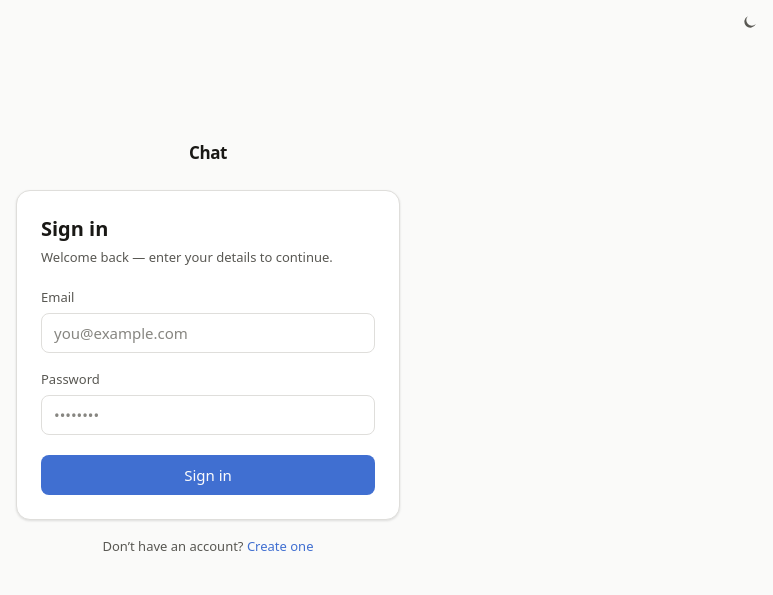
it: Login › shows a form-level error for invalid credentials and keeps the user on the page
Expected: the heading "Sign in" is shown, [41,215,108,242]
Type "ada@example.com" into the field labelled "Email" at [208, 333], box [41,313,375,353]
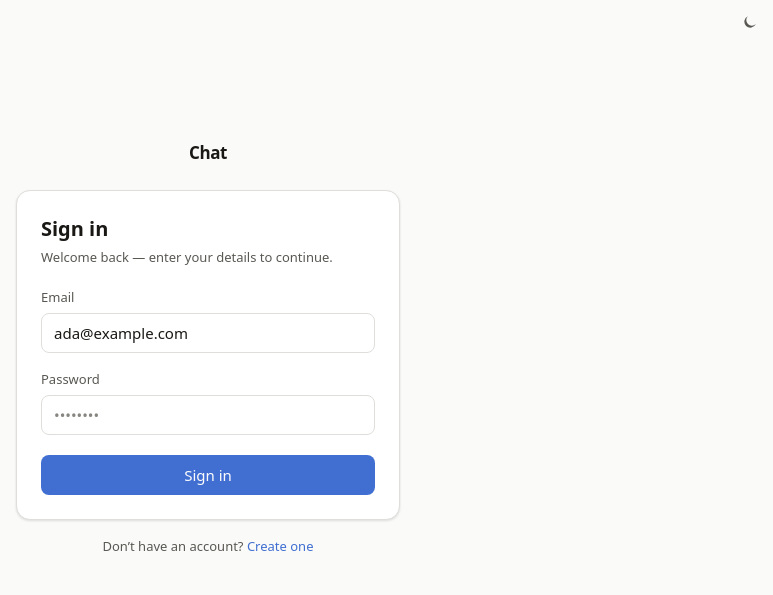
Type "wrong-password" into the password field labelled "Password" at [208, 415], box [41,395,375,435]
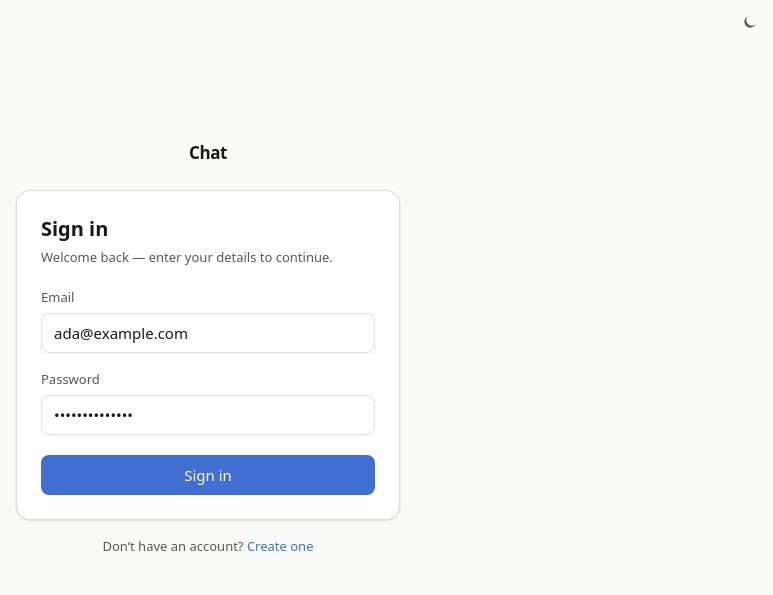
Click the button "Sign in" at [208, 475], box [41,455,375,495]
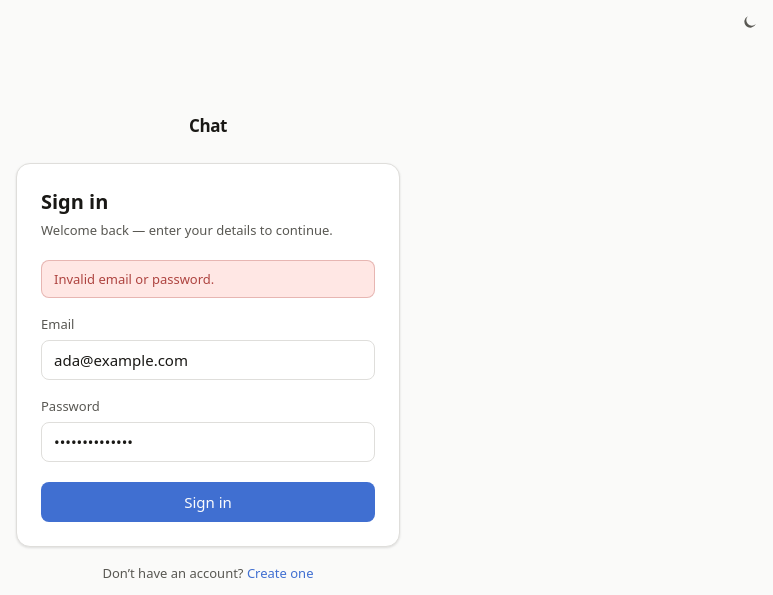
Expected: the heading "Sign in" is shown, [41,188,108,215]
Expected: the message reads "Invalid email or password.", [54,270,214,288]
